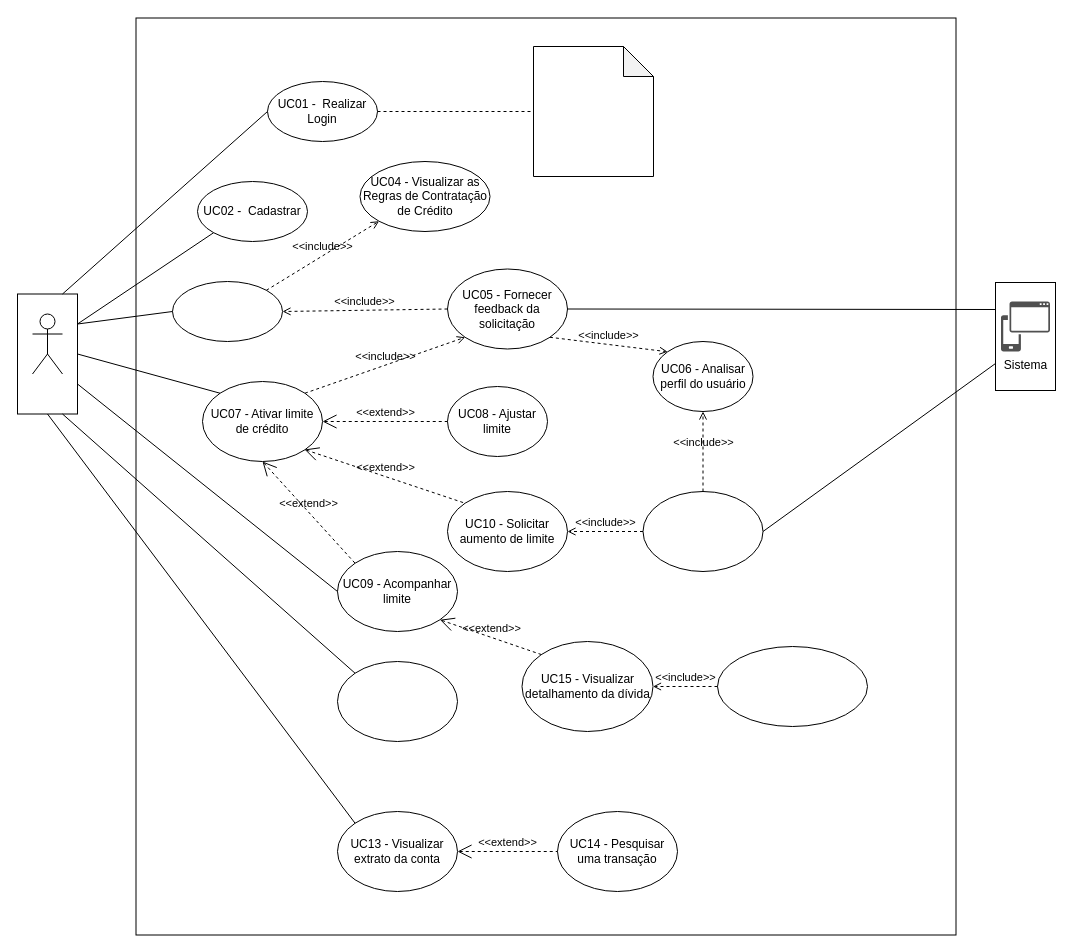
The diagram is 1073 pixels wide and 952 high, and some of its shapes have lost their labels. Here are the shapes that lost their labels. From the top down, the centre of each, then its label:
At point 593,111: "Todos os casos de uso, exceto o UC02, incluem a realização do login (UC01)".
At point 227,311: "UC03 - Solicitar Crédito".
At point 47,343: "Usuário".
At point 702,531: "UC11 - Fornecer feedback da solicitação de aumento".
At point 397,701: "UC12 - Visualizar saldo da conta".
At point 792,686: "UC16 - Solicitar parcelamento da dívida".
